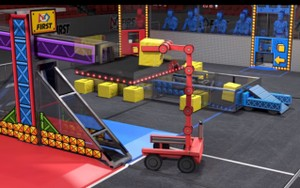cube: (139, 38, 162, 68), (179, 92, 201, 111), (123, 85, 145, 103), (98, 81, 119, 99), (222, 83, 242, 101), (74, 78, 93, 94)
